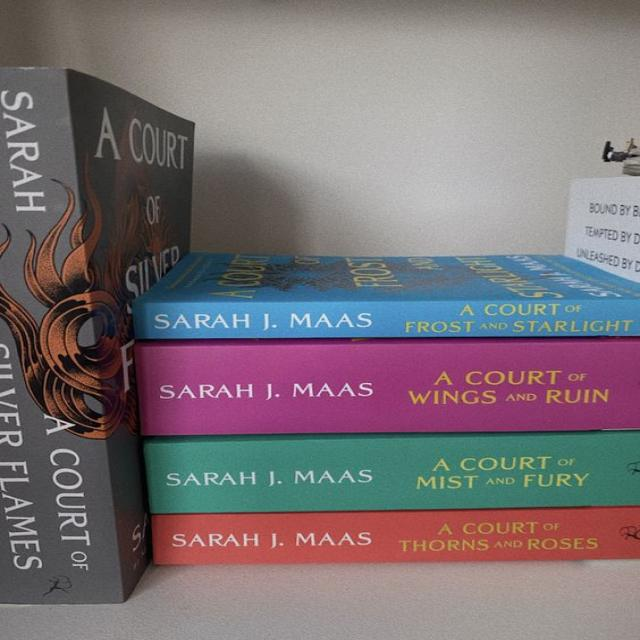book: (4, 65, 120, 604), (137, 340, 639, 435), (145, 431, 639, 513), (152, 506, 639, 564), (136, 303, 640, 338)
